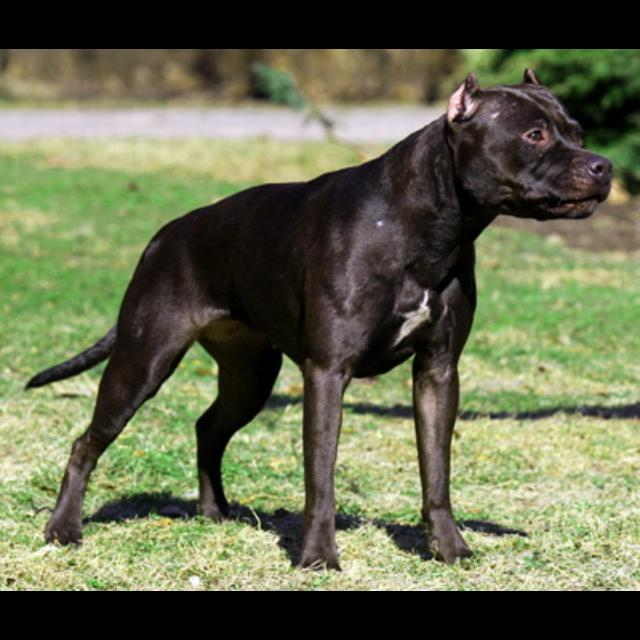am_pit_bull_terrier: (24, 68, 614, 573)
